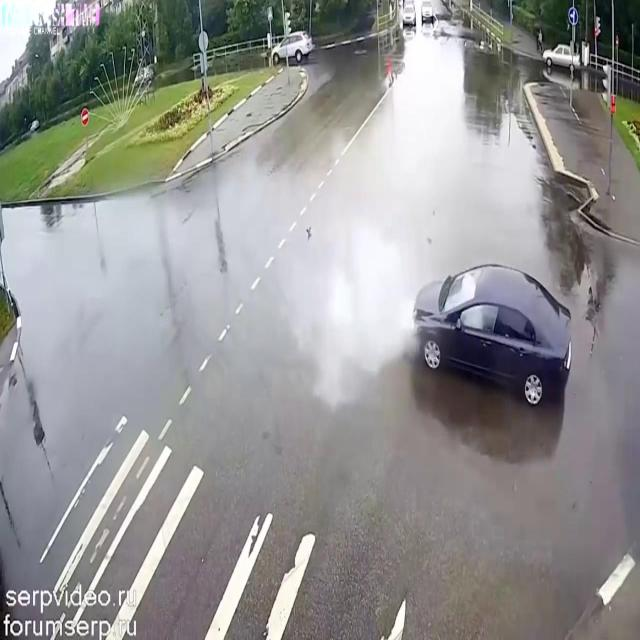accident: (321, 227, 577, 420)
